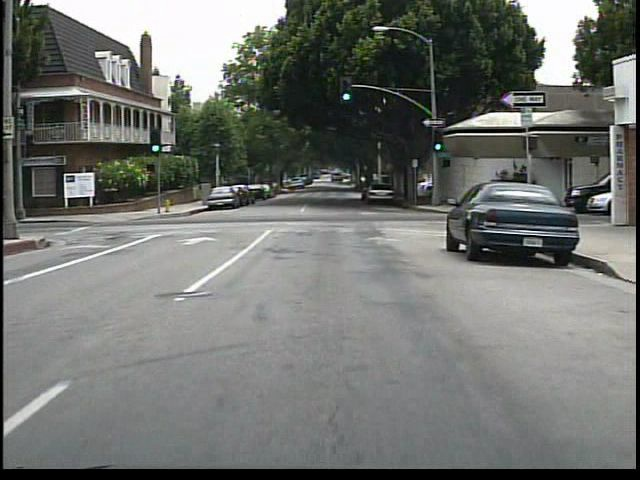person: (512, 170, 536, 213)
